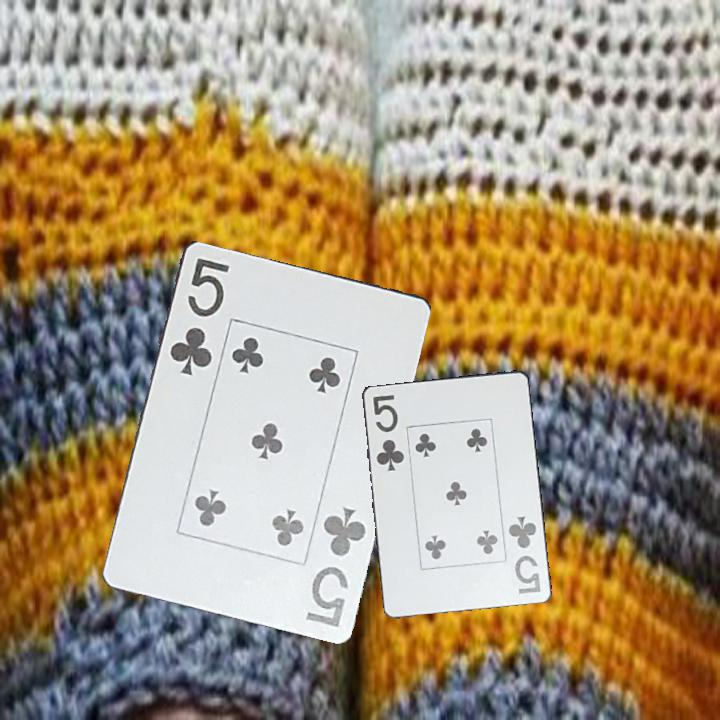5c: (301, 502, 369, 630), (166, 253, 232, 378), (504, 512, 543, 597), (369, 390, 407, 474)
